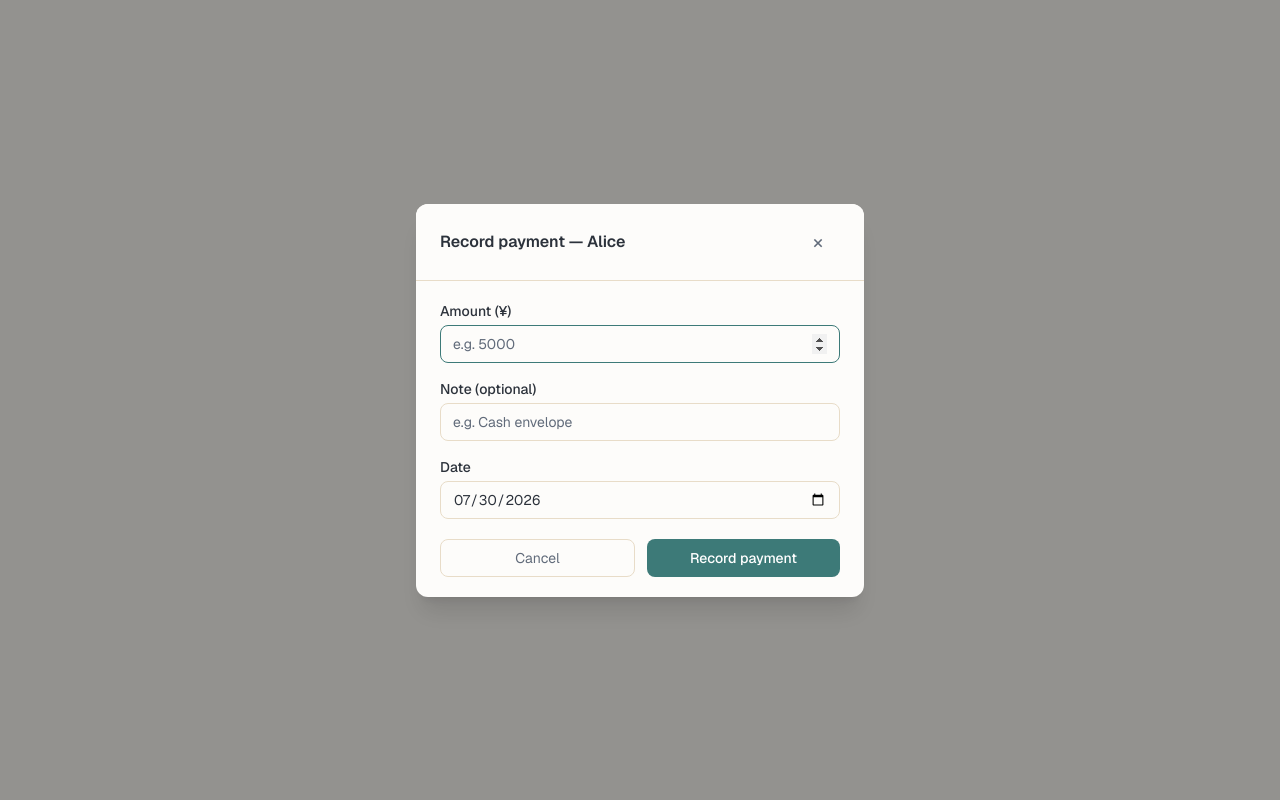
Test case: RecordPaymentModal › validates positive amount — rejects 0
Type "0" into the number field with placeholder "e.g. 5000" at (640, 344), box x1=440 y1=324 x2=840 y2=362
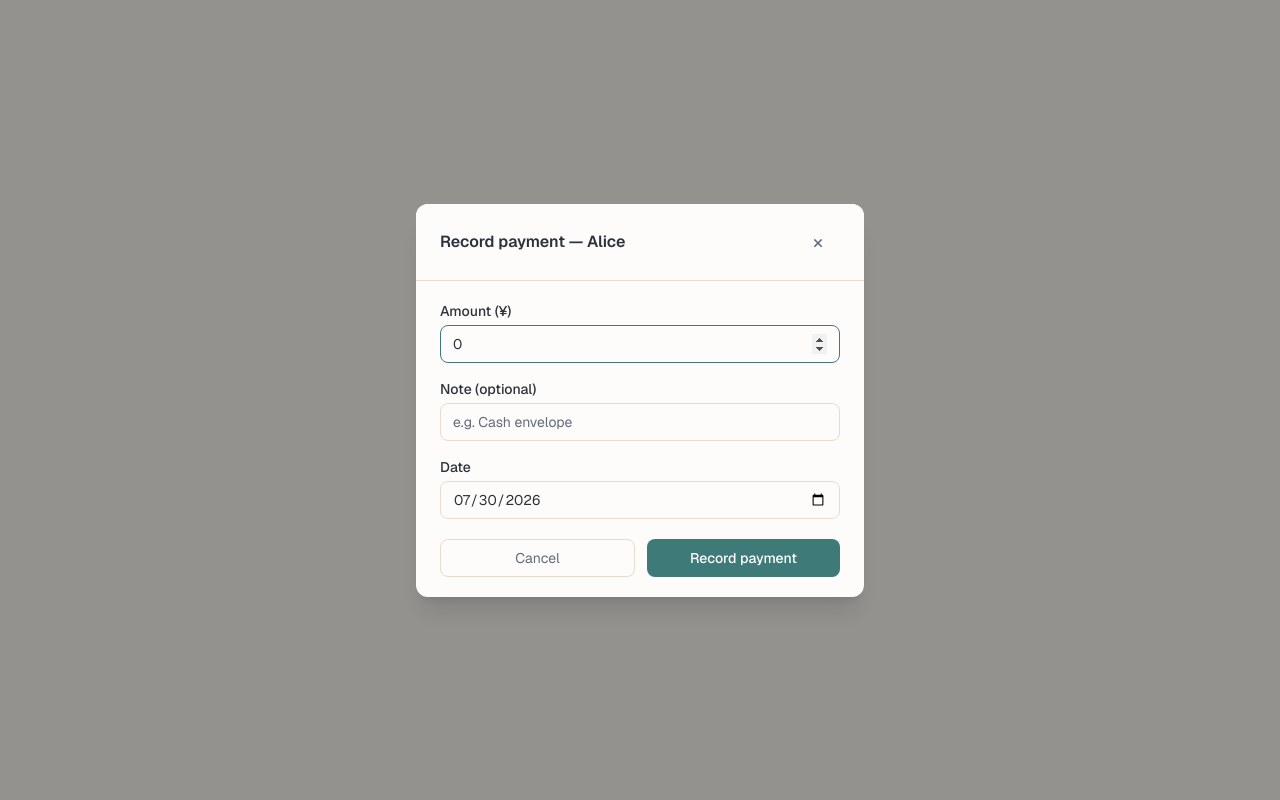
Click the button "Record payment" at (744, 558), box x1=647 y1=538 x2=840 y2=576
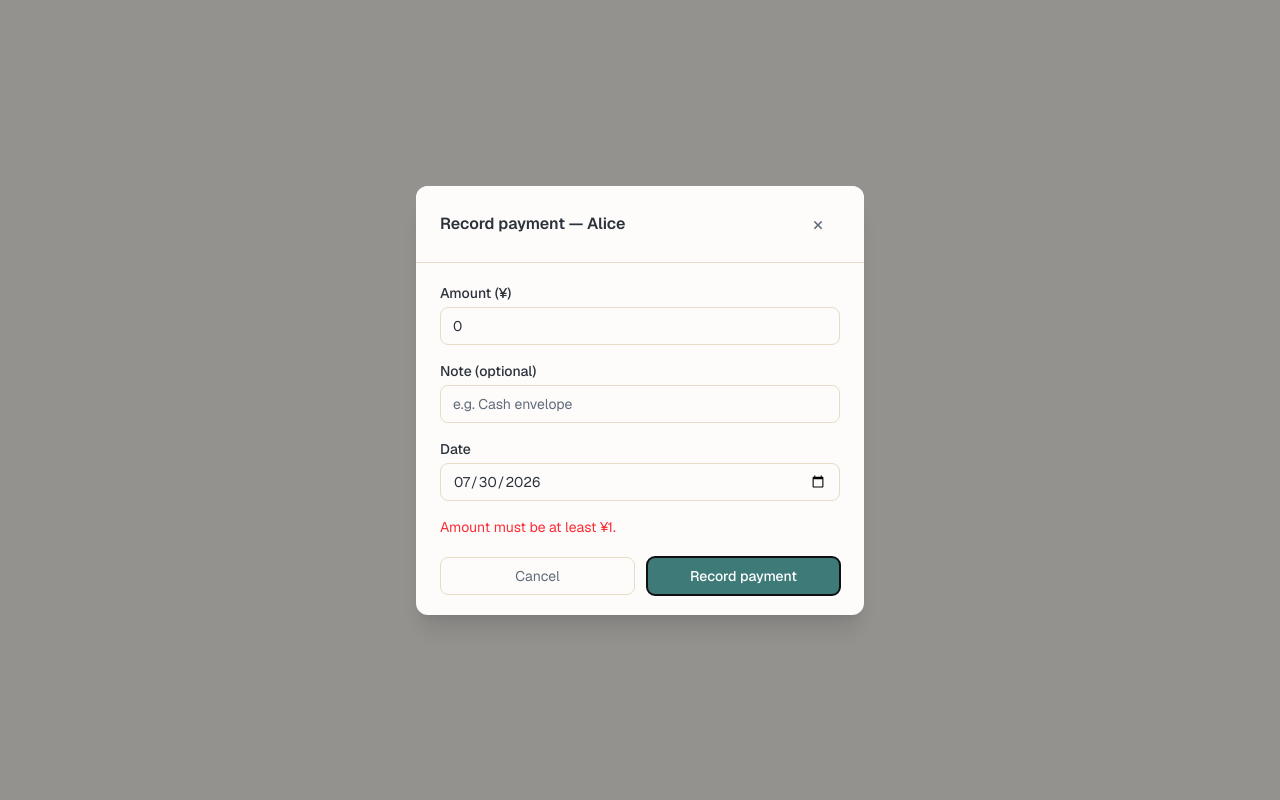
Now the text "Amount must be at least ¥1." is shown, box x1=440 y1=518 x2=616 y2=536
